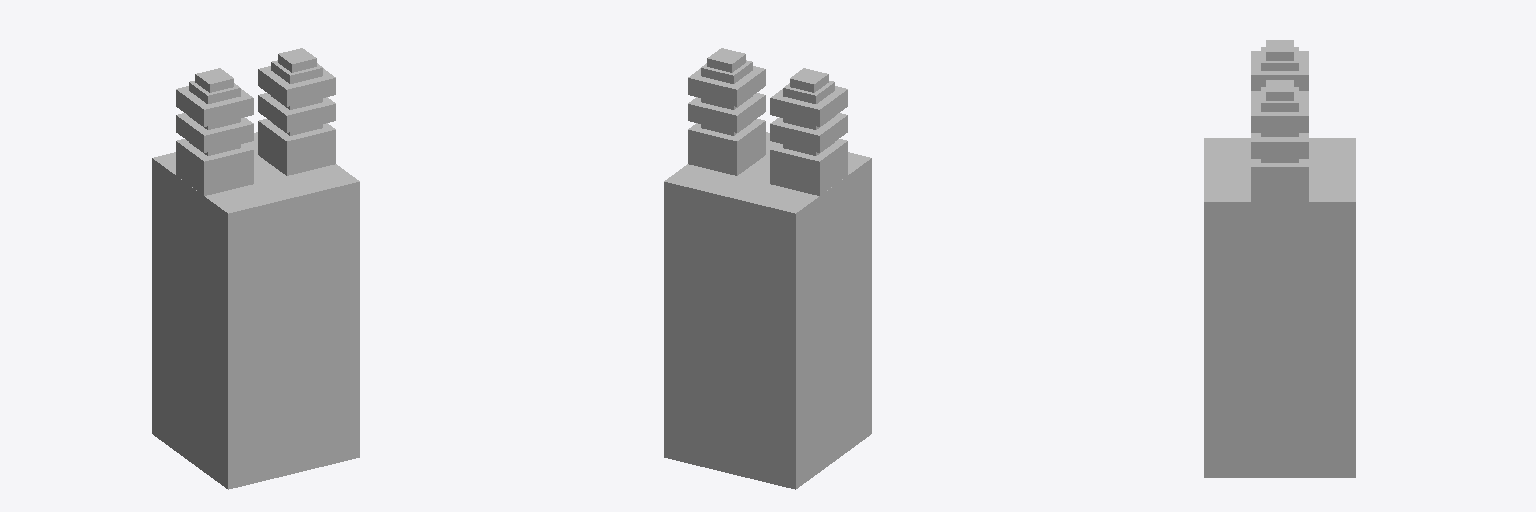
File: transformer_af_left.obj
The picture shows the model from 3 angles: view 1: azimuth 30°, elevation 25°; view 2: azimuth 150°, elevation 25°; view 3: azimuth 270°, elevation 25°; orthographic projection.
Visible parts, largest first — view 1: block; view 2: block; view 3: block.
Boxes of the visible parts, <box> form: block: <box>152,48,359,489</box>; block: <box>664,48,871,489</box>; block: <box>1204,40,1355,477</box>.
Bounding box in the file's own units: 1 × 2.75 × 1.